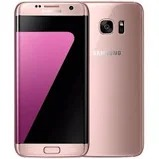samsung: (12, 1, 88, 159), (86, 1, 145, 159)
